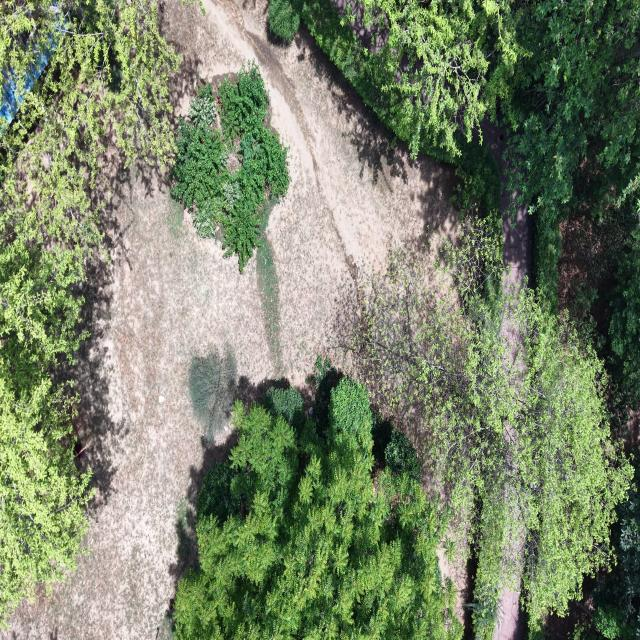DRY_AREA: (0, 0, 455, 639), (482, 118, 532, 292), (483, 118, 532, 295), (483, 119, 532, 295), (483, 120, 532, 295), (483, 120, 532, 292), (484, 123, 532, 294), (437, 548, 473, 638), (494, 533, 524, 639), (494, 536, 524, 639), (333, 0, 388, 52), (503, 195, 531, 288), (494, 588, 524, 639)
PATHWAYS: (483, 123, 531, 292)
VEGETATION_TREE: (269, 0, 639, 638), (291, 0, 639, 437), (290, 0, 639, 406), (0, 0, 178, 625), (0, 0, 178, 623), (355, 239, 631, 637), (287, 0, 639, 306), (174, 369, 461, 639), (274, 0, 519, 234), (502, 0, 639, 410), (0, 0, 178, 250), (502, 0, 639, 306), (274, 0, 522, 160), (354, 222, 502, 421), (0, 345, 92, 626), (362, 0, 521, 158), (171, 63, 289, 273), (559, 206, 639, 445), (559, 207, 639, 422), (576, 472, 639, 639), (599, 216, 639, 406), (188, 345, 237, 444), (372, 411, 422, 480), (197, 462, 241, 522), (385, 430, 422, 480), (264, 388, 303, 424), (269, 0, 299, 42), (269, 201, 274, 207)
